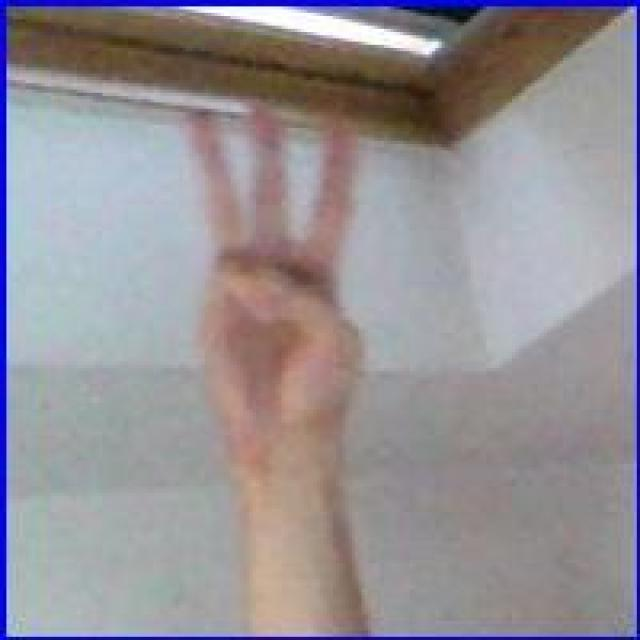W: (178, 96, 379, 474)
